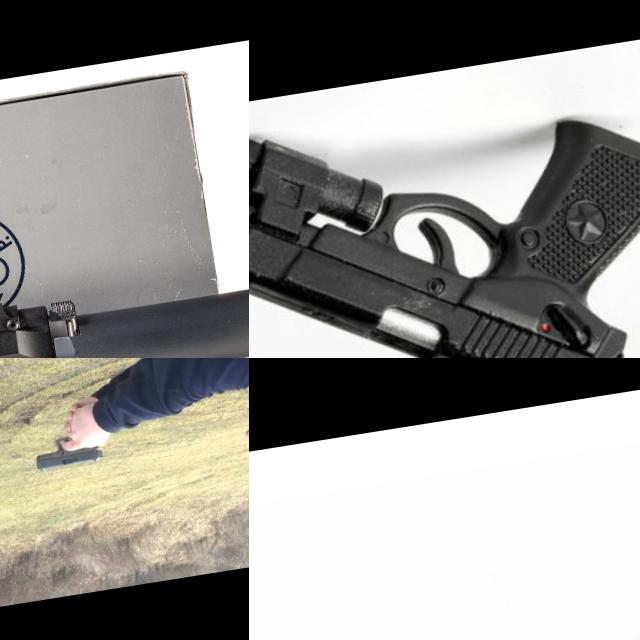handgun: (249, 62, 640, 358), (249, 434, 640, 640), (0, 125, 201, 358), (28, 428, 104, 475)
